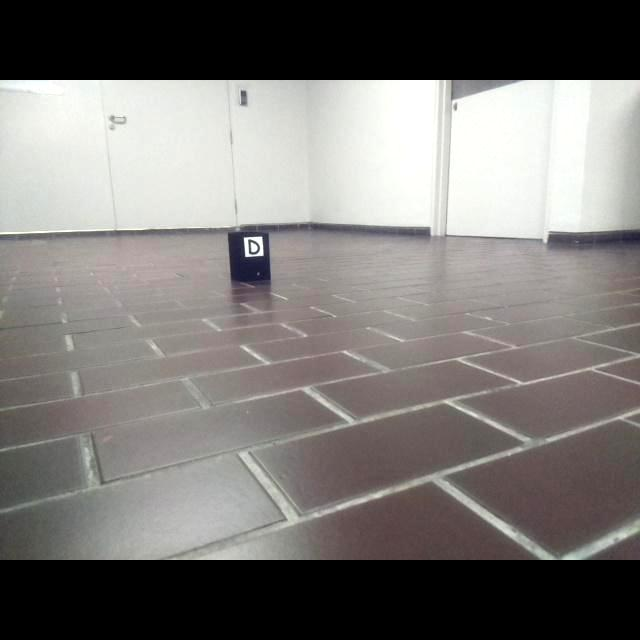D: (248, 239, 261, 256)
